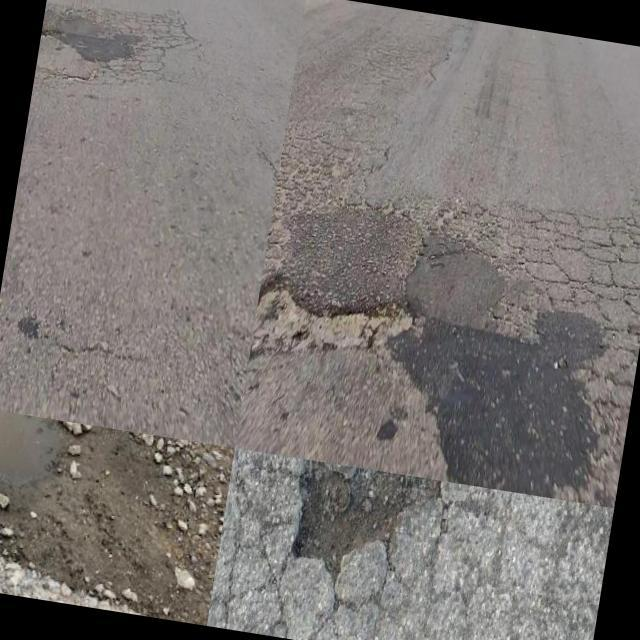Pothole: (0, 411, 219, 615), (290, 459, 443, 591), (250, 265, 420, 356)
